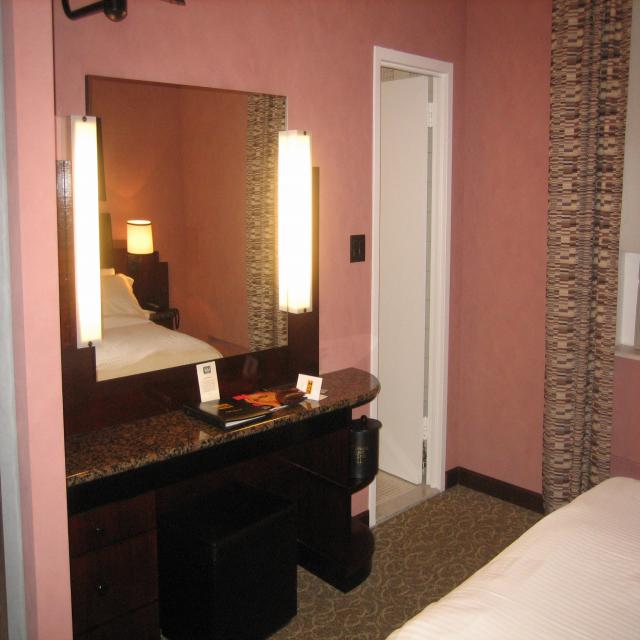bed frame: (388, 476, 638, 640)
curtain crop: (543, 0, 634, 511)
door bars: (377, 76, 430, 485)
door handle: (370, 46, 453, 528)
floor -X: (74, 473, 637, 640)
mirror crop: (84, 72, 288, 383)
wall clock: (51, 0, 466, 634), (462, 2, 640, 542), (1, 0, 74, 639)
